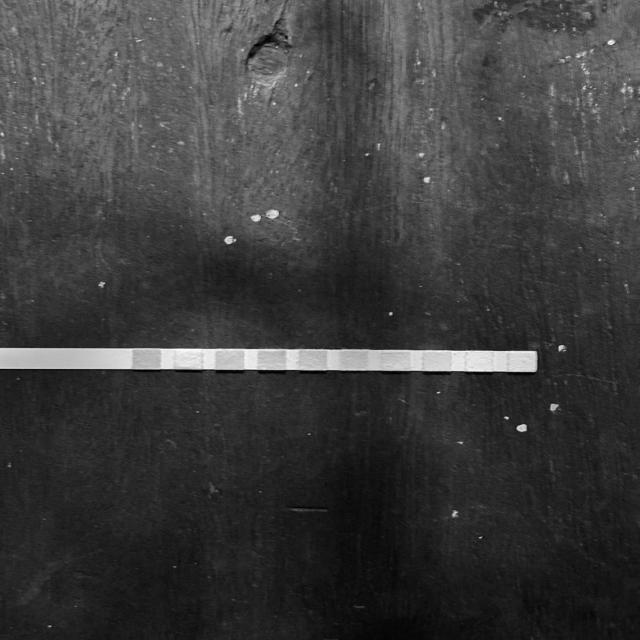Bilirubin: (176, 350, 202, 369)
Blood: (301, 351, 326, 370)
Glucose: (134, 349, 160, 369)
Ketone: (219, 350, 244, 370)
Leukocytes: (510, 352, 535, 372)
Nitrite: (467, 351, 492, 371)
Protein: (383, 350, 408, 370)
SpGravity: (259, 350, 285, 369)
Urobilinogen: (424, 351, 450, 370)
background: (0, 0, 640, 640)
pH: (341, 350, 367, 370)
strip: (9, 348, 537, 372)
